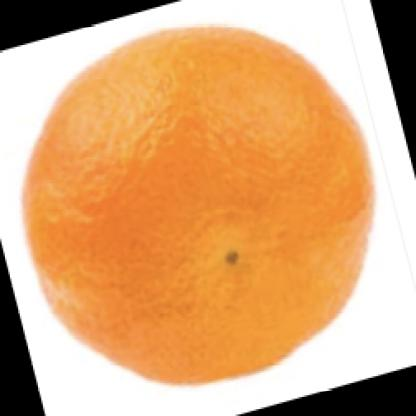orange: (19, 25, 382, 384)
